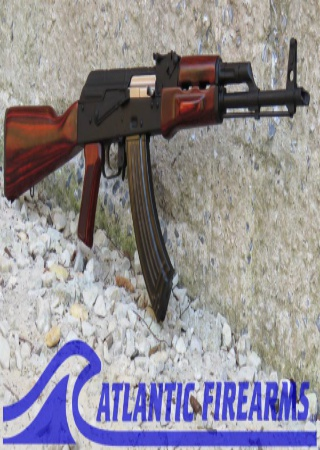rifle: (3, 42, 311, 322)
